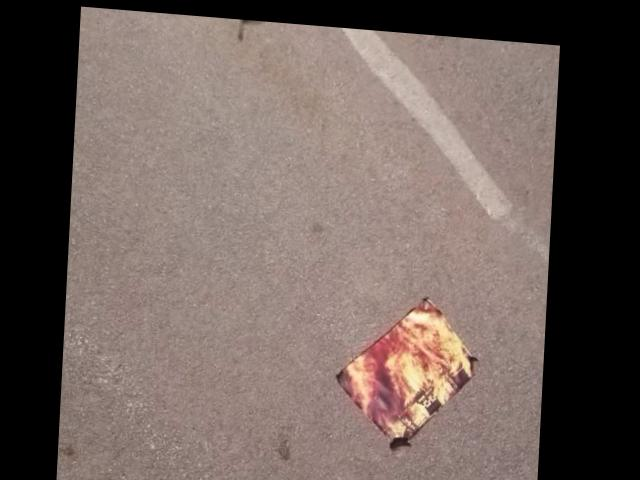fire-poster: (334, 283, 485, 445)
